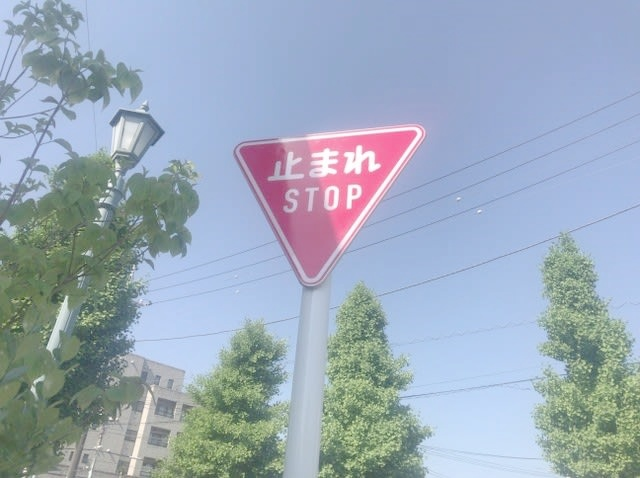Regulatory_sign_triangle: (225, 117, 438, 277)
